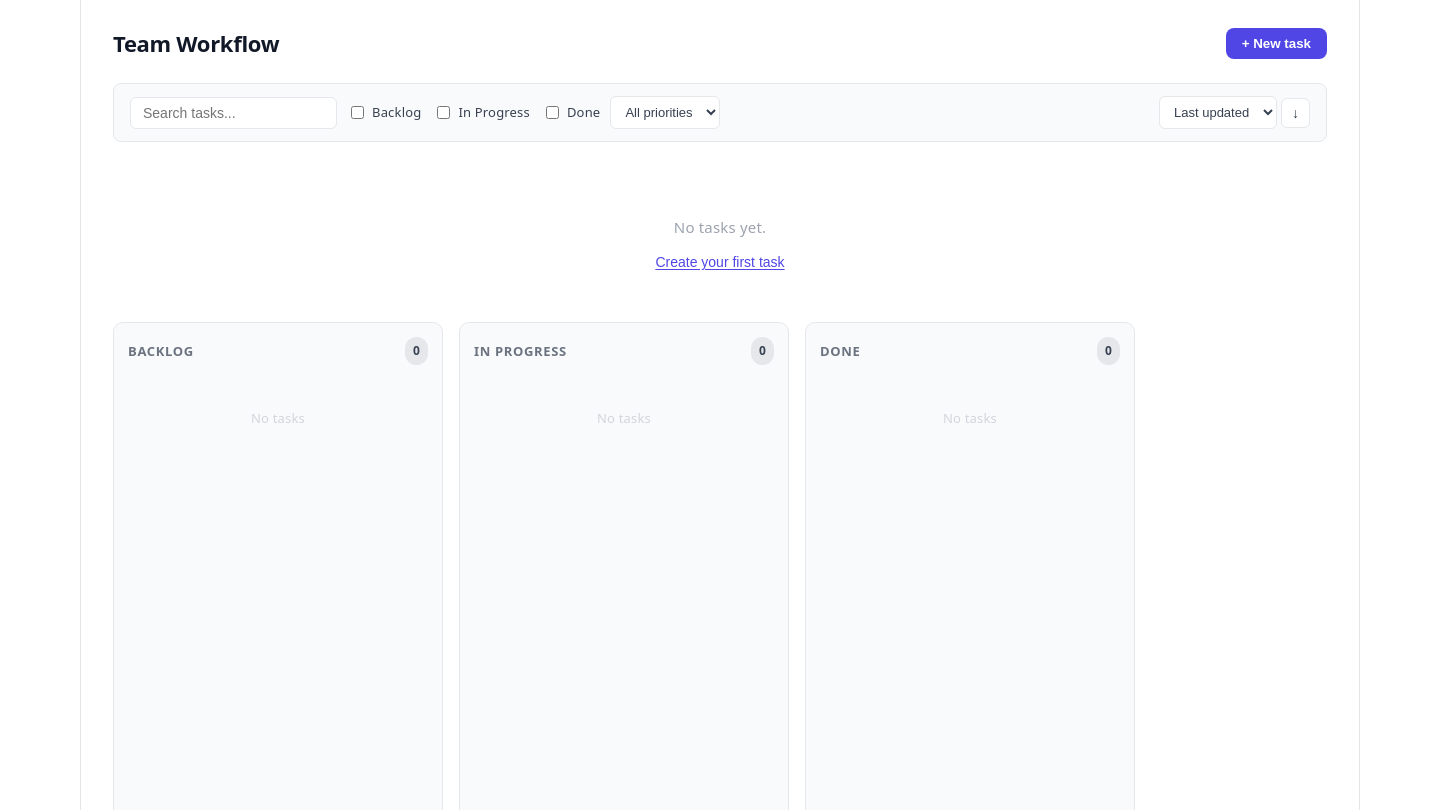
task creation › creates a task and shows it in the Backlog column
This screenshot has width=1440, height=810.
Expected: the text "No tasks yet." is shown, 674,217 -> 766,237
Open the create modal
Click the button "+ New task".
click(1276, 44)  # box 1226,28 -> 1327,59
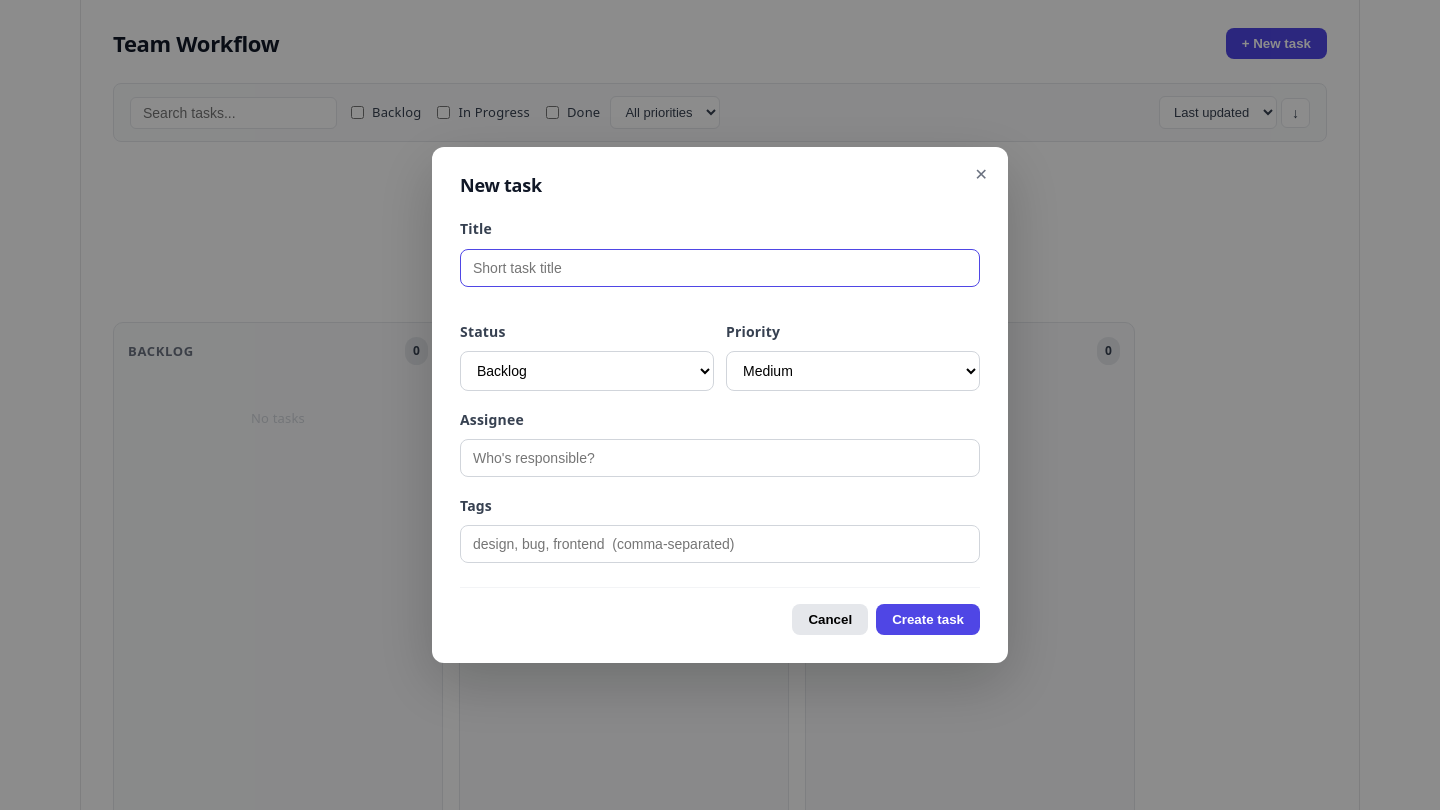
Modal should be visible now
Type "Fix login redirect bug" into the field labelled "Title".
click(720, 268); type("Fix login redirect bug")  # box 460,248 -> 980,286
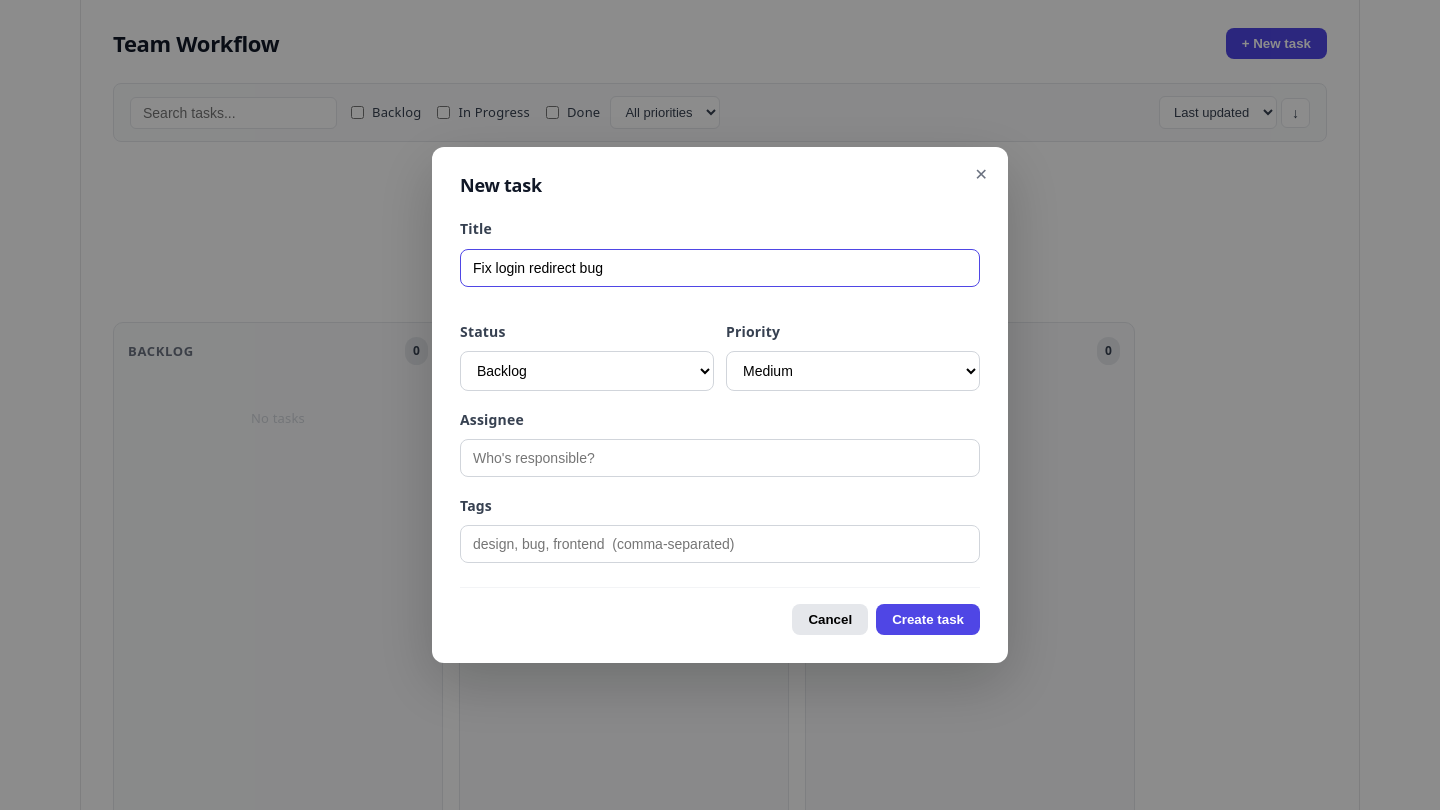
Click the button "Create task".
click(928, 619)  # box 876,604 -> 980,635
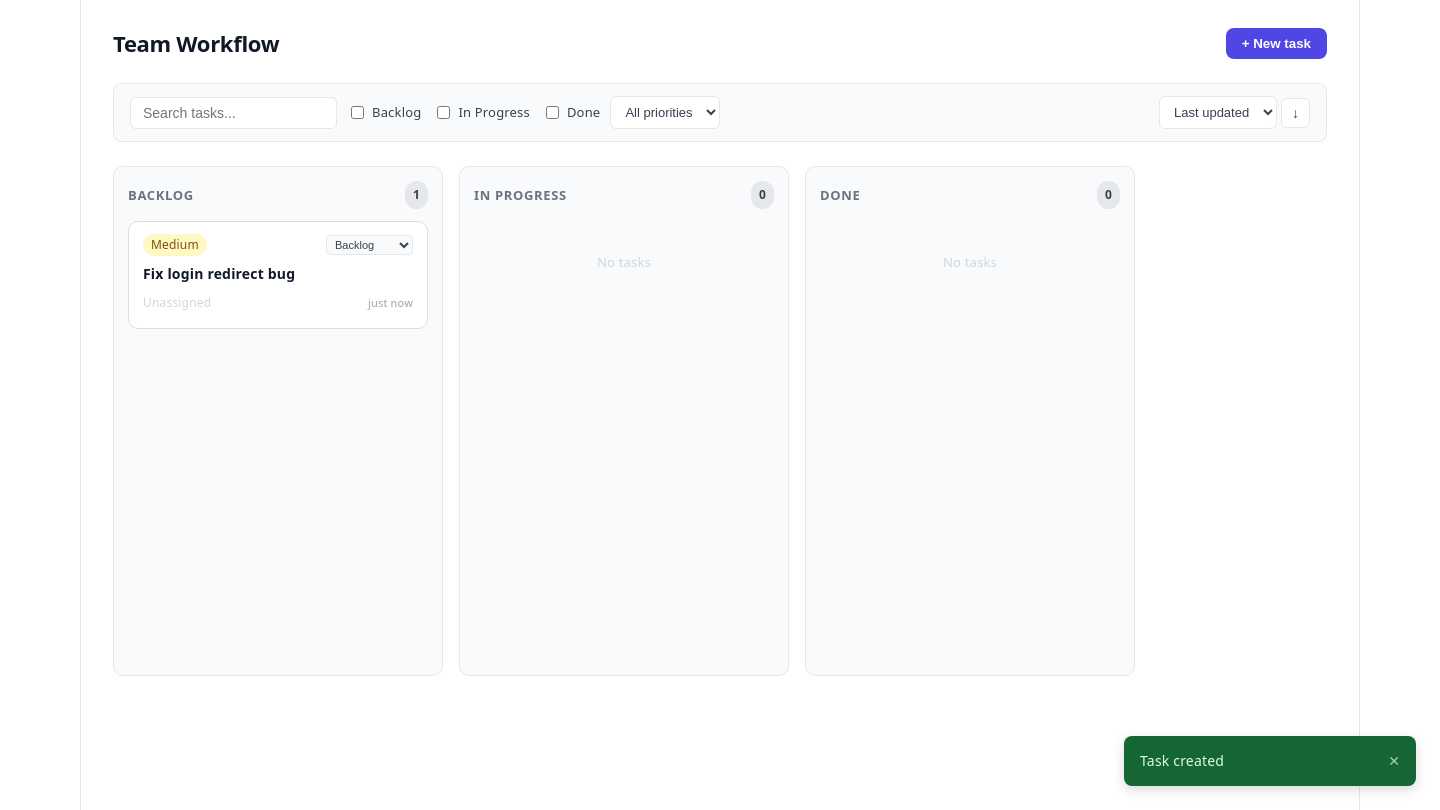
Now the text "Fix login redirect bug" is shown, box 143,264 -> 295,283
